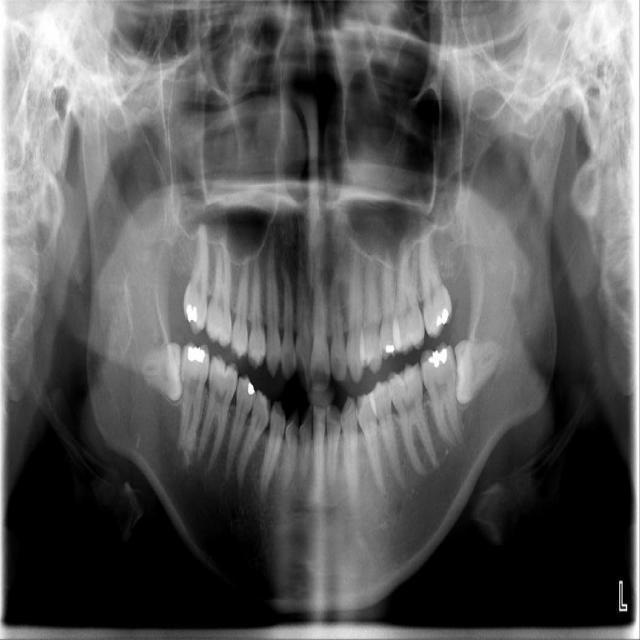Filling: (180, 301, 199, 326), (183, 345, 207, 362), (427, 348, 447, 364), (434, 307, 449, 328), (242, 382, 259, 396), (385, 342, 397, 354)
impacted tooth: (454, 340, 499, 402), (139, 345, 186, 400)
